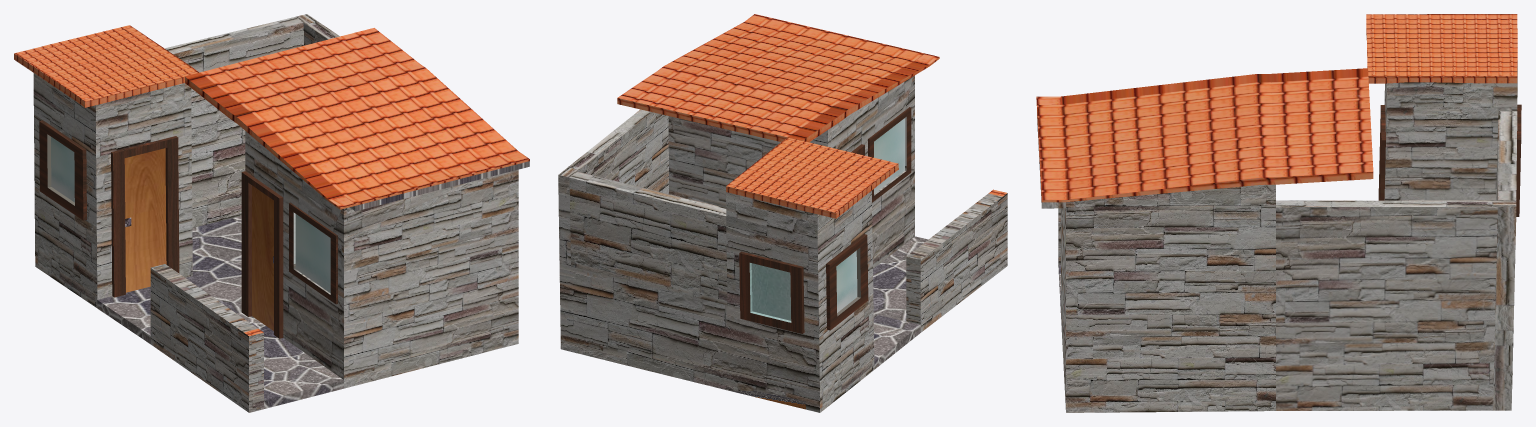
The model's file is caseta.obj.
3 renders of one model, left to right at view 1: azimuth 30°, elevation 25°; view 2: azimuth 150°, elevation 25°; view 3: azimuth 270°, elevation 25°, orthographic. The views are drawn at different scales.
Visible parts, largest first — view 1: Cube; view 2: Cube; view 3: Cube.
Part boxes in pixels (x1,y1,x2,y2): Cube: (14,14,529,412); Cube: (558,14,1007,412); Cube: (1036,14,1521,412).
Size of the model in its own units: 296 by 205 by 374.
Materials: 1 (1 with a texture image).
